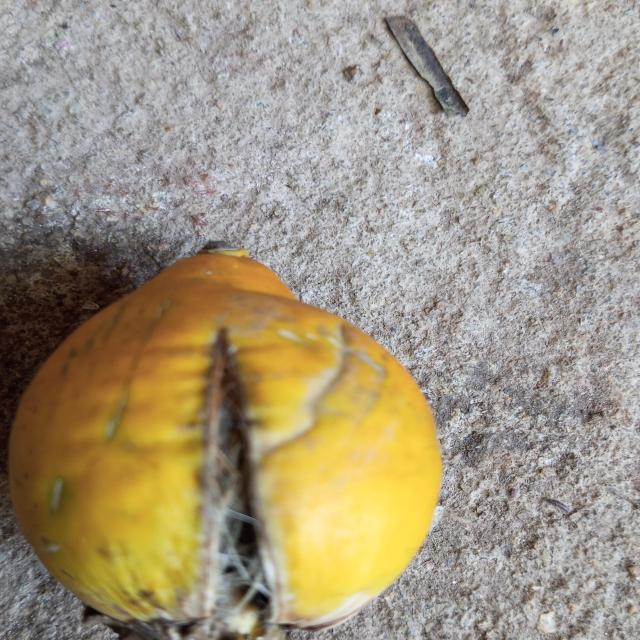damaged: (8, 247, 444, 640)
